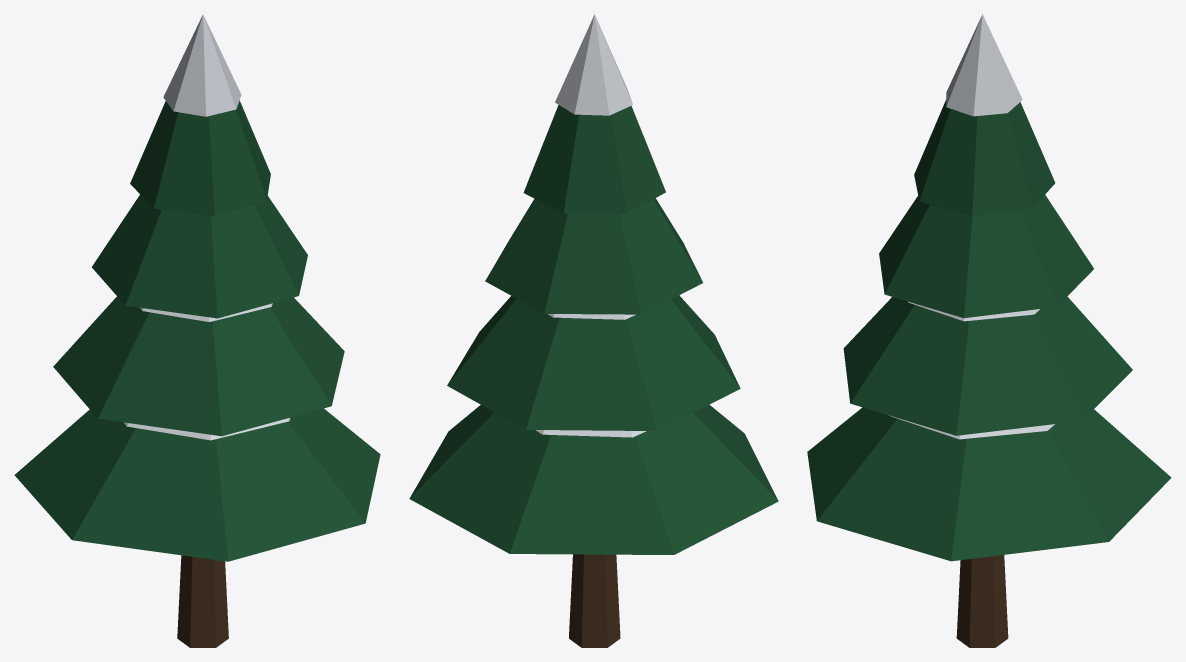
The model's file is SM_GZ_tree_pine_snow.fbx.
The picture shows the model from 3 angles, left to right: view 1: azimuth 30°, elevation 25°; view 2: azimuth 150°, elevation 25°; view 3: azimuth 270°, elevation 25°; orthographic projection.
Parts seen in each view (by area): view 1: SM_GZ_tree_pine_snow; view 2: SM_GZ_tree_pine_snow; view 3: SM_GZ_tree_pine_snow.
Part boxes in pixels (x1,y1,x2,y2): SM_GZ_tree_pine_snow: (14,14,380,647); SM_GZ_tree_pine_snow: (409,14,778,647); SM_GZ_tree_pine_snow: (807,14,1171,647).
Bounding box in the file's own units: 428 × 800 × 423.
